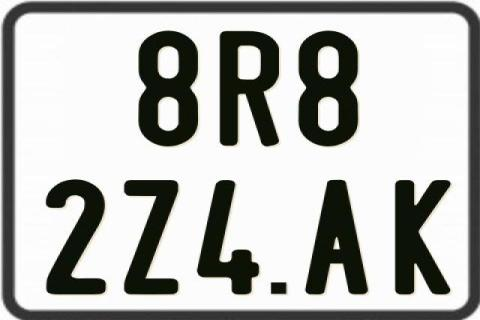0: (195, 180, 257, 298), (45, 179, 108, 295), (297, 31, 357, 150), (137, 31, 197, 147)
A: (305, 180, 370, 298)
K: (396, 180, 452, 294)
R: (219, 31, 279, 147)
Z: (123, 178, 179, 294)
